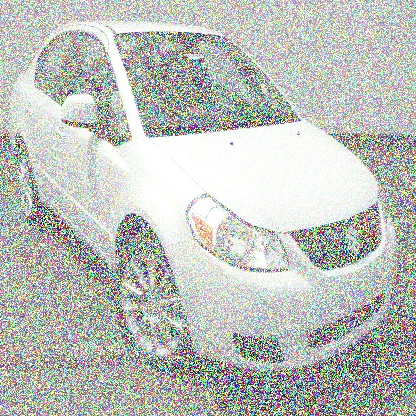Vehicle: (7, 12, 404, 382)
